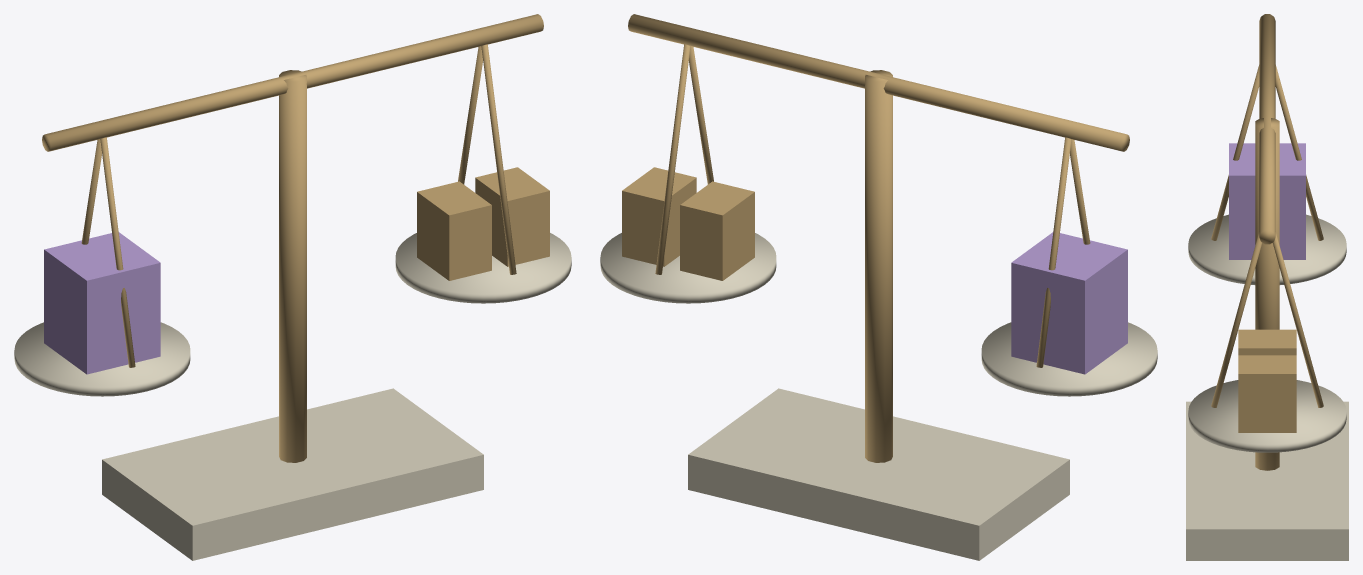
File: balance.glb
The picture shows the model from 3 angles, left to right: view 1: azimuth 30°, elevation 25°; view 2: azimuth 150°, elevation 25°; view 3: azimuth 270°, elevation 25°; orthographic projection. The views are drawn at different scales.
Visible parts, largest first — view 1: balance_base, balance_unknown_weight, balance_pillar, balance_level_beam, balance_pan, balance_unit_weight, balance_pan.001, balance_unit_weight.001, balance_suspension.002, balance_suspension, balance_suspension.003, balance_suspension.001; view 2: balance_base, balance_unknown_weight, balance_pillar, balance_level_beam, balance_pan, balance_unit_weight, balance_pan.001, balance_unit_weight.001, balance_suspension.003, balance_suspension.001, balance_suspension.002, balance_suspension; view 3: balance_base, balance_pan.001, balance_unknown_weight, balance_pan, balance_unit_weight.001, balance_level_beam, balance_pillar, balance_unit_weight, balance_suspension.002, balance_suspension.003, balance_suspension, balance_suspension.001.
Part boxes in pixels (<box>): balance_base: <box>102,388,483,560</box>; balance_unknown_weight: <box>44,232,160,374</box>; balance_pillar: <box>279,70,306,462</box>; balance_level_beam: <box>42,14,543,151</box>; balance_pan: <box>14,322,190,396</box>; balance_unit_weight: <box>417,181,491,280</box>; balance_pan.001: <box>395,233,571,303</box>; balance_unit_weight.001: <box>475,167,549,266</box>; balance_suspension.002: <box>481,44,516,274</box>; balance_suspension: <box>100,137,135,367</box>; balance_suspension.003: <box>458,46,482,184</box>; balance_suspension.001: <box>81,139,101,244</box>; balance_base: <box>688,388,1069,560</box>; balance_unknown_weight: <box>1011,232,1127,374</box>; balance_pillar: <box>865,70,892,462</box>; balance_level_beam: <box>628,14,1129,151</box>; balance_pan: <box>981,322,1157,396</box>; balance_unit_weight: <box>680,181,754,280</box>; balance_pan.001: <box>600,233,776,303</box>; balance_unit_weight.001: <box>622,167,696,266</box>; balance_suspension.003: <box>655,44,690,274</box>; balance_suspension.001: <box>1036,137,1071,367</box>; balance_suspension.002: <box>689,46,713,184</box>; balance_suspension: <box>1070,139,1090,244</box>; balance_base: <box>1186,401,1348,560</box>; balance_pan.001: <box>1188,380,1346,452</box>; balance_unknown_weight: <box>1229,143,1305,259</box>; balance_pan: <box>1188,214,1346,284</box>; balance_unit_weight.001: <box>1238,355,1296,432</box>; balance_level_beam: <box>1259,14,1275,244</box>; balance_pillar: <box>1255,118,1279,470</box>; balance_unit_weight: <box>1238,329,1296,355</box>; balance_suspension.002: <box>1211,232,1262,407</box>; balance_suspension.003: <box>1272,232,1323,407</box>; balance_suspension: <box>1211,65,1259,240</box>; balance_suspension.001: <box>1275,65,1323,240</box>.
Size of the model in its own units: 2.38 by 1.78 by 0.7.
